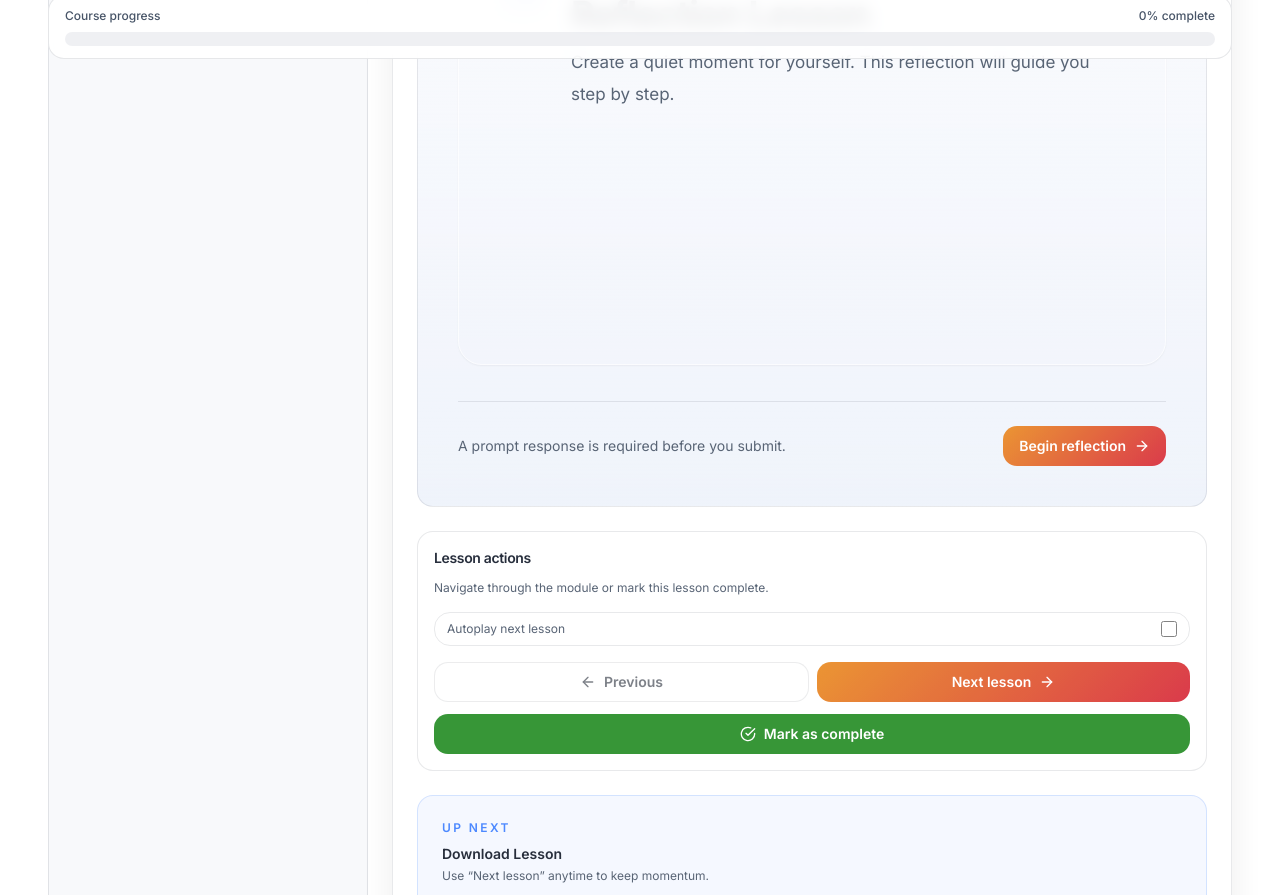
Test: CoursePlayer progress integration › renders reflection prompts and download lessons as first-class learner content
The width and height of the screenshot is (1280, 895).
Later steps or results of the test are not shown.
(page scrolled)
What coordinates should you click on to do the following:
click the button "Begin reflection"
I would click on:
 (1085, 446)
Its box is [1003, 426, 1166, 466].
(page scrolled)
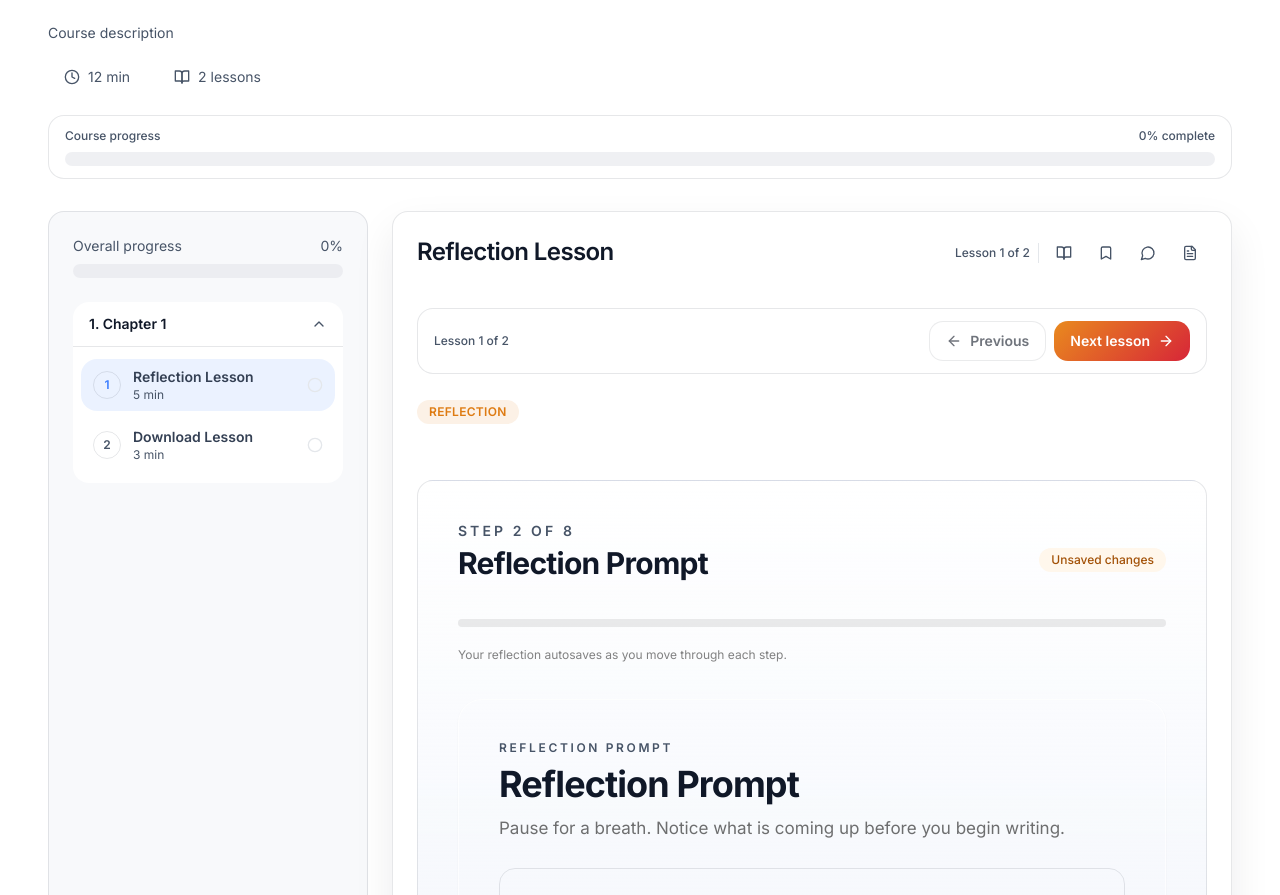
expect the heading "Reflection Prompt" in the row of "Unsaved changes" is shown: met, box [458, 545, 708, 581]
